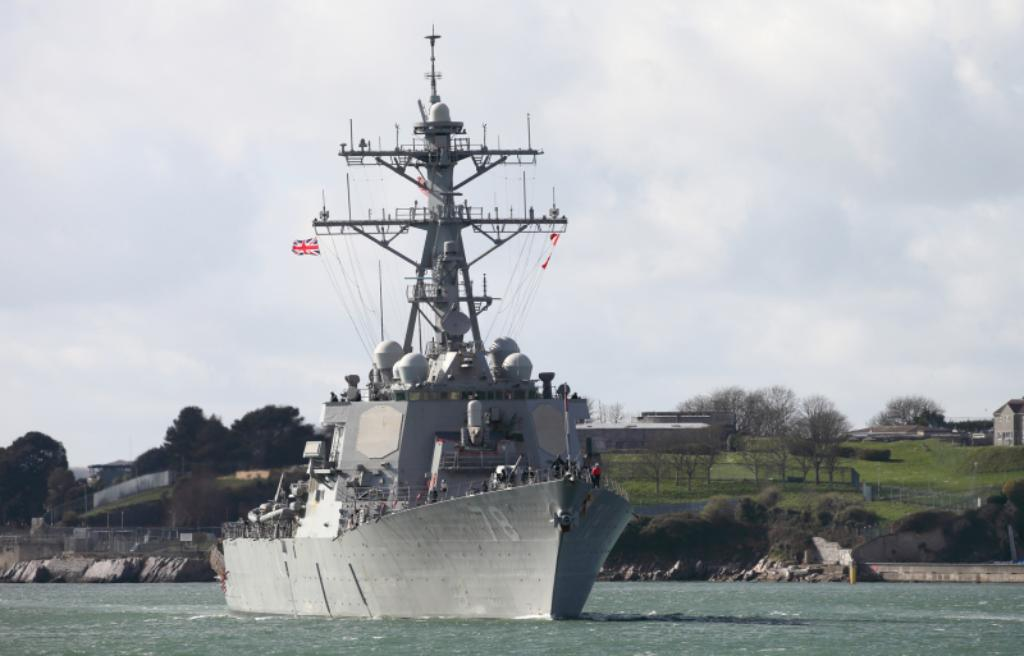Warship: (216, 22, 636, 626)
